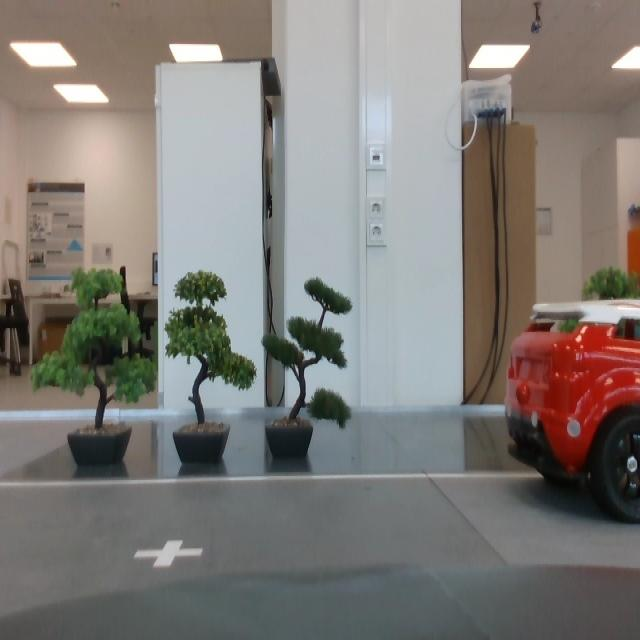car: (505, 298, 640, 524)
potted plant: (33, 268, 157, 471), (164, 271, 257, 465), (262, 276, 353, 458), (564, 271, 640, 429)
